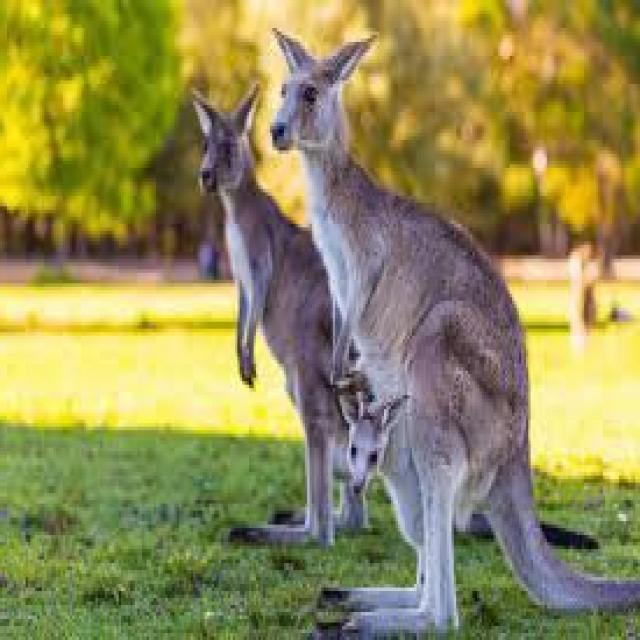kangaroo: (272, 28, 640, 637), (195, 84, 365, 542)
